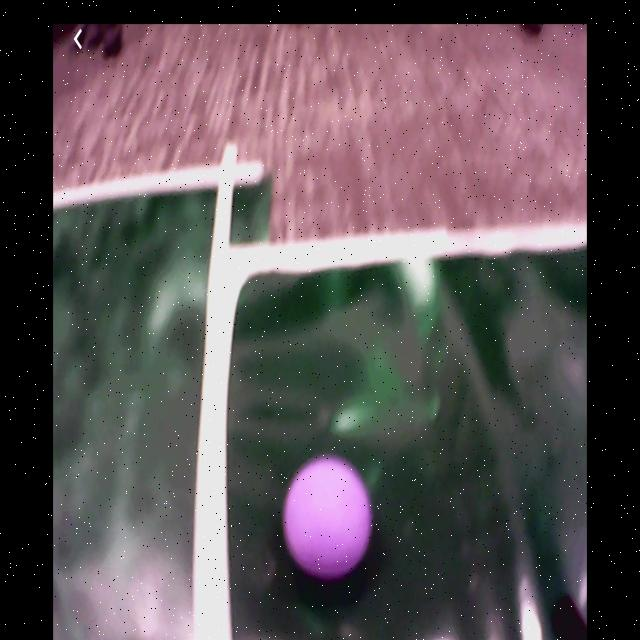ball: (285, 459, 373, 578)
